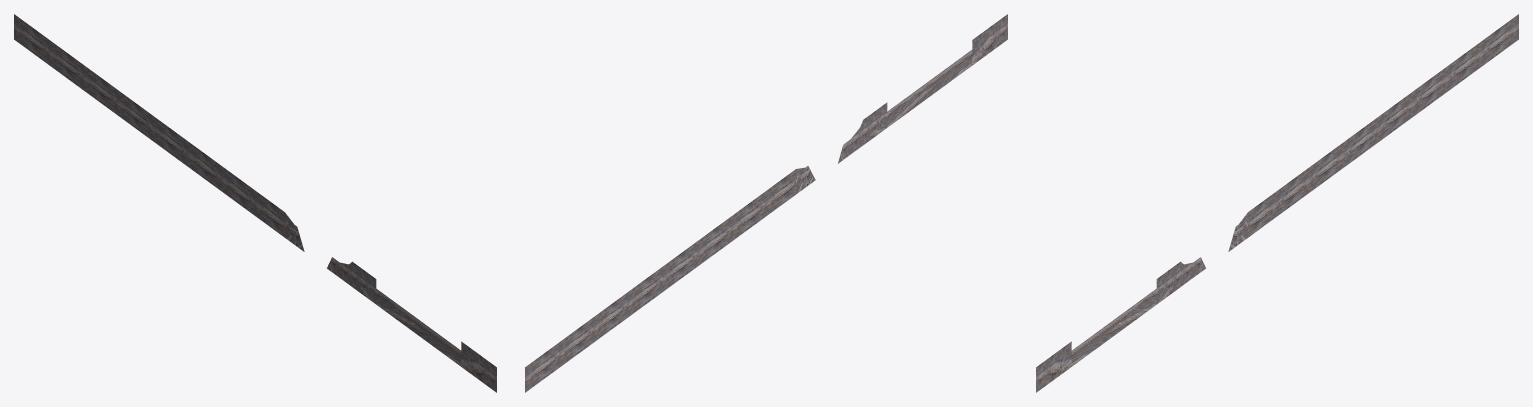
File: lodsredbrix06.obj
3 views of the same model, side by side, from view 1: azimuth 30°, elevation 25°; view 2: azimuth 150°, elevation 25°; view 3: azimuth 330°, elevation 25° (orthographic).
Parts seen in each view (by area): view 1: lodSredbrix06; view 2: lodSredbrix06; view 3: lodSredbrix06.
Part boxes in pixels (bbox=[...]): lodSredbrix06: bbox=[14, 14, 496, 392]; lodSredbrix06: bbox=[525, 14, 1007, 392]; lodSredbrix06: bbox=[1036, 14, 1518, 392].
Size of the model in its own units: 3.4e-05 by 7.01 by 240.
Materials: 1 (1 with a texture image).
